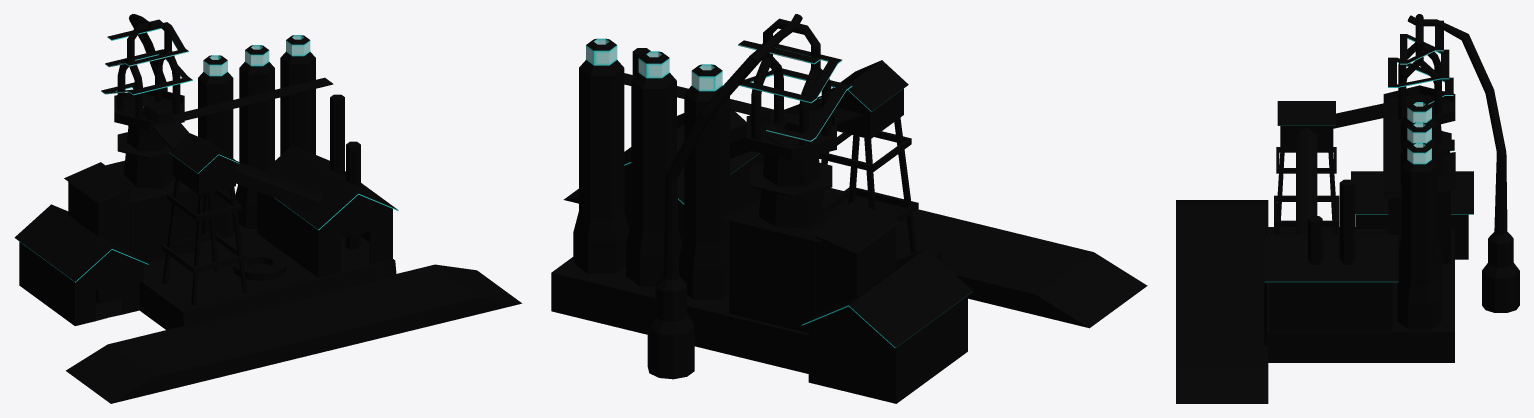
The model's file is Building_SteelMill_UNWRAPPED_01.fbx.
3 views of the same model, side by side, from view 1: azimuth 30°, elevation 25°; view 2: azimuth 150°, elevation 25°; view 3: azimuth 270°, elevation 25° (orthographic). The views are drawn at different scales.
Parts seen in each view (by area): view 1: Building_Steelmill_01:pPipe5; view 2: Building_Steelmill_01:pPipe5; view 3: Building_Steelmill_01:pPipe5.
Boxes of the visible parts, x1,y1,x2,y2 form: Building_Steelmill_01:pPipe5: [14, 14, 521, 403]; Building_Steelmill_01:pPipe5: [551, 14, 1147, 403]; Building_Steelmill_01:pPipe5: [1176, 14, 1519, 403].
Bounding box in the file's own units: 5323 × 3198 × 3793.
